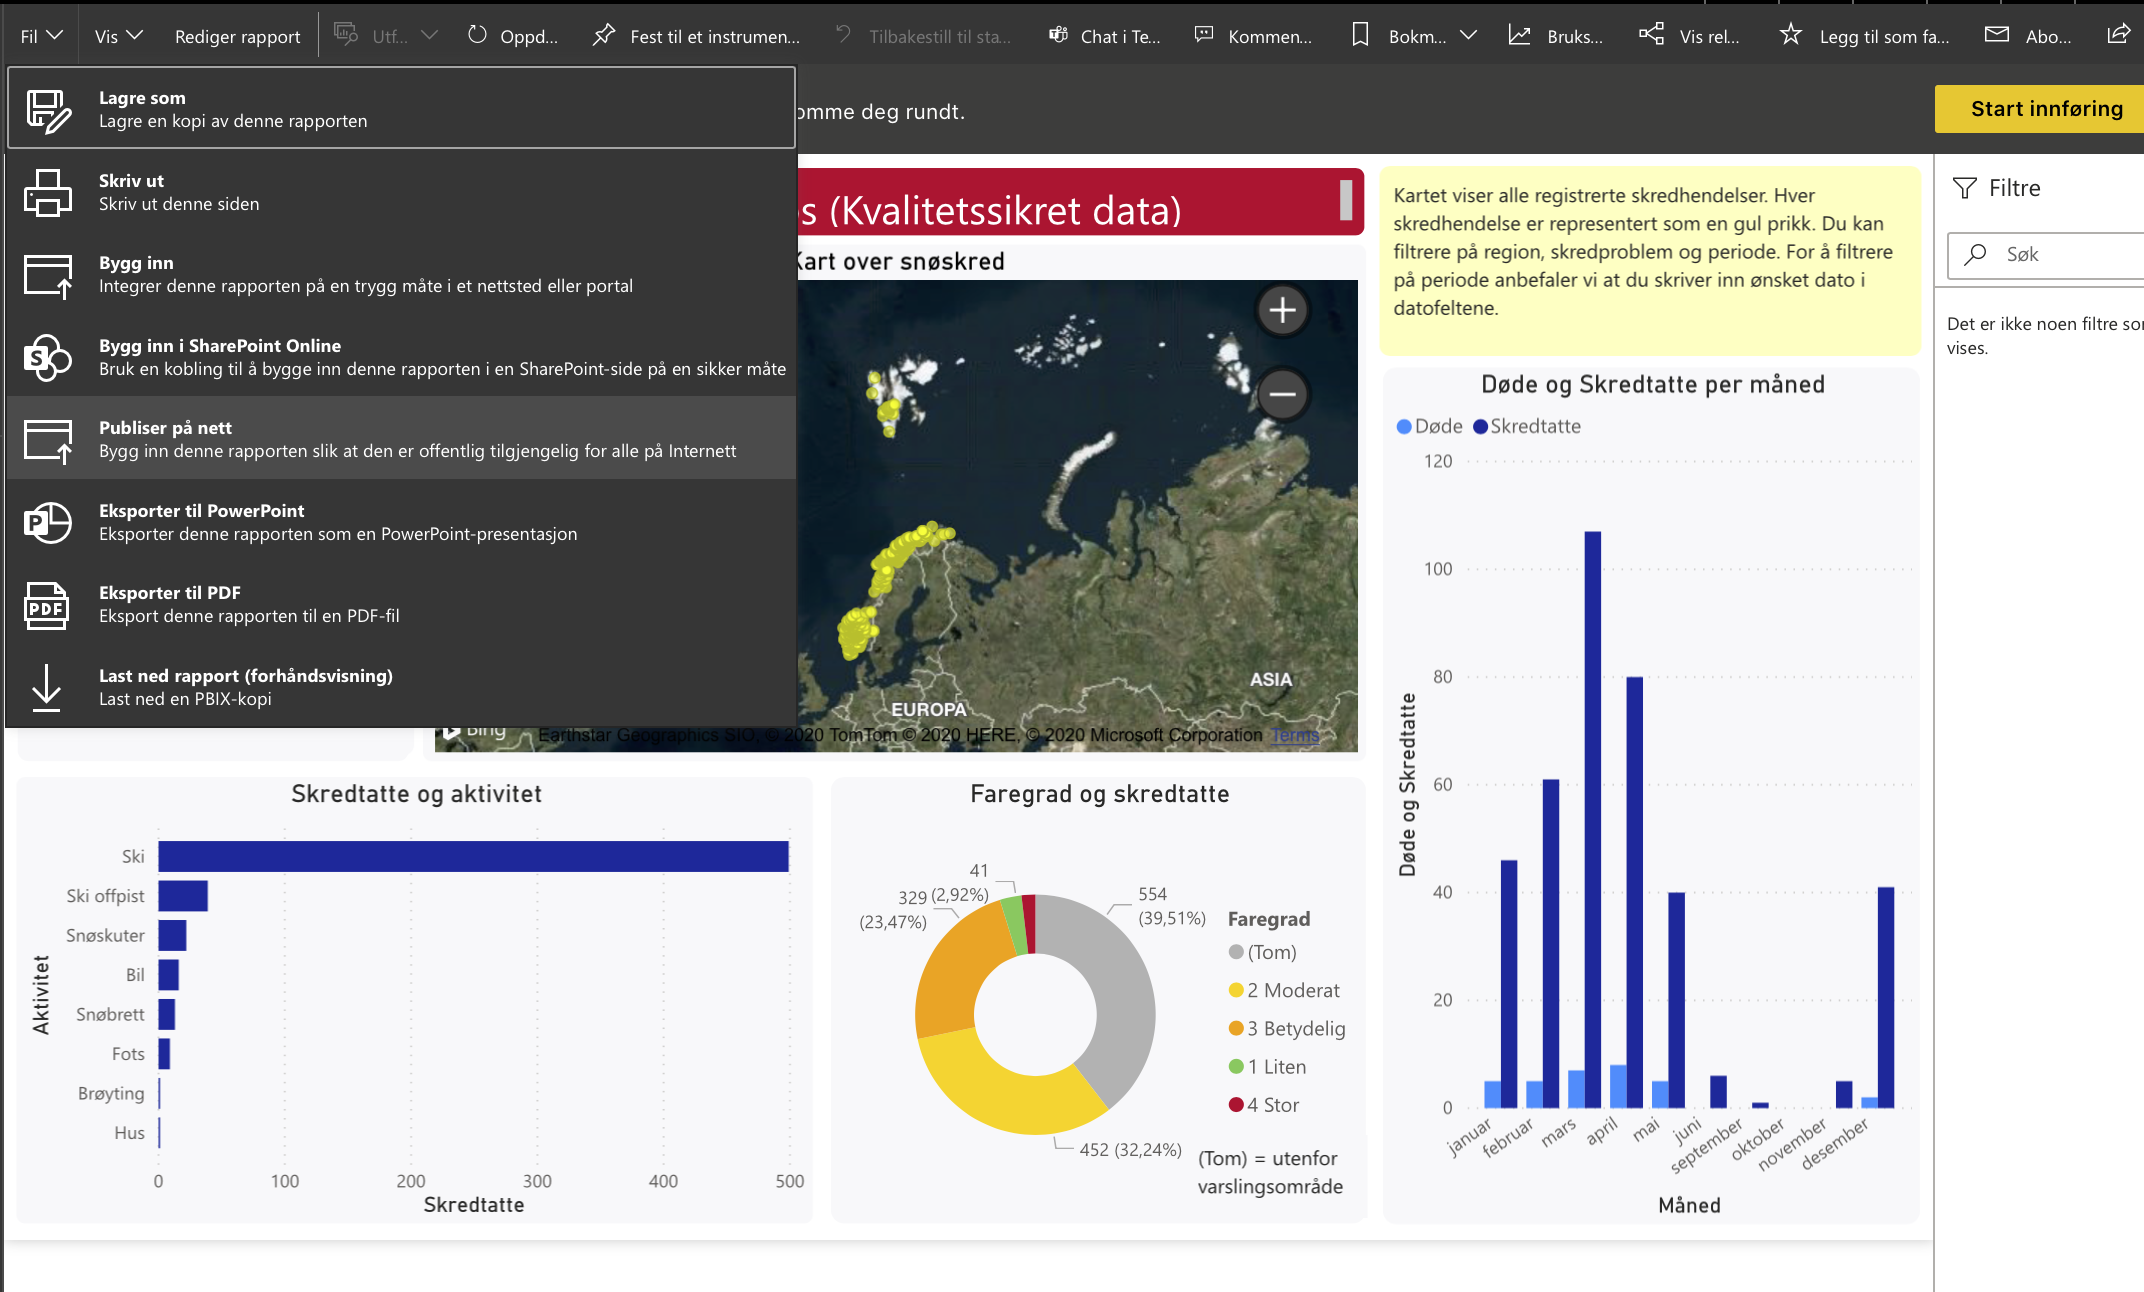

This screenshot's page, from the dashboard's own definition file:
{"tool":"powerbi","page":{"name":"NVE","canvas":[1280,720],"ordinal":0},"visuals":[{"type":"pieChart","title":"Faregrad og skredtatte","fields":{"Y":["Sum(excel_data.Skredtatte)"],"Category":["skredvarsel_data.Faregrad"]},"box":[546.9,411.8,357.1,298.6],"z":0},{"type":"map","title":"Kart over snøskred","fields":{"Y":["regobs_data.lat"],"X":["regobs_data.lng"]},"box":[275.6,56.4,629.2,347],"z":1000},{"type":"clusteredColumnChart","title":"Døde og Skredtatte per måned","fields":{"Category":["excel_data.dato.Variasjon.Datohierarki.Måned"],"Y":["Sum(excel_data.Døde)","Sum(excel_data.Skredtatte)"]},"box":[911.9,175.8,359.8,534.2],"z":2000},{"type":"basicShape","box":[6.6,56.4,265.6,350.3],"z":3000},{"type":"textbox","box":[88,68.1,102.9,39.8],"z":4000},{"type":"barChart","title":"Skredtatte og aktivitet","fields":{"Category":["excel_data.Aktivitet"],"Y":["Sum(excel_data.Skredtatte)"]},"box":[6.6,411.7,539.5,298.8],"z":5000},{"type":"slicer","fields":{"Values":["skredvarsel_data.region_name"]},"box":[14.1,97,180,74.1],"z":6000},{"type":"slicer","fields":{"Values":["regobs_data.time"]},"box":[14,238.8,257.9,159.8],"z":7000},{"type":"slicer","fields":{"Values":["skredvarsel_data.avalanche_problem_type_name"]},"box":[14.1,165.3,180,73.5],"z":8000},{"type":"textbox","box":[911.9,2.7,359.8,168.9],"z":9000},{"type":"textbox","box":[787.1,650.8,117.2,55.4],"z":10000},{"type":"textbox","box":[6.6,3.3,898.1,53.1],"z":11000}]}

Visuals, with their boxes on the page's 1280x720 design canvas (x1, y1, x2, y2). These are canvas units, not pixel positions in the 2144x1292 screenshot, which may show the page scaled, cropped or inside an application window:
"Faregrad og skredtatte" pieChart: <region>547, 412, 904, 710</region>
"Kart over snøskred" map: <region>276, 56, 905, 403</region>
"Døde og Skredtatte per måned" clusteredColumnChart: <region>912, 176, 1272, 710</region>
basicShape: <region>7, 56, 272, 407</region>
textbox: <region>88, 68, 191, 108</region>
"Skredtatte og aktivitet" barChart: <region>7, 412, 546, 710</region>
slicer - skredvarsel_data.region_name: <region>14, 97, 194, 171</region>
slicer - regobs_data.time: <region>14, 239, 272, 399</region>
slicer - skredvarsel_data.avalanche_problem_type_name: <region>14, 165, 194, 239</region>
textbox: <region>912, 3, 1272, 172</region>
textbox: <region>787, 651, 904, 706</region>
textbox: <region>7, 3, 905, 56</region>
